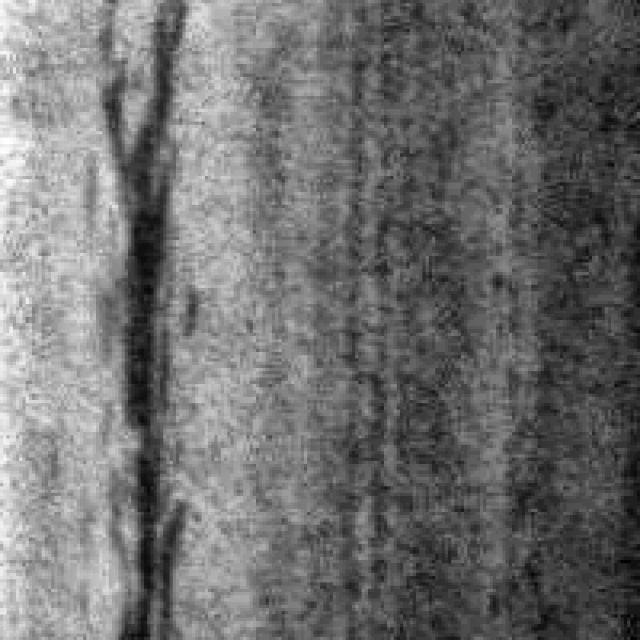Patches: (80, 0, 202, 634)
